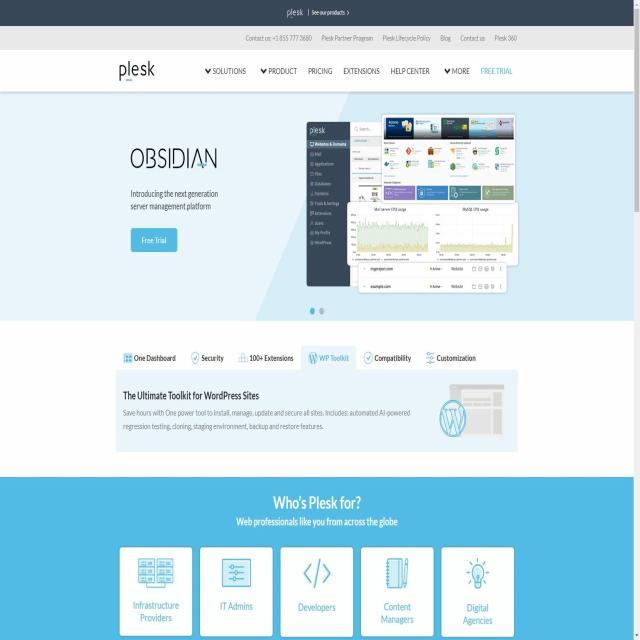button: (130, 227, 177, 253)
select: (204, 65, 247, 77), (260, 65, 298, 76), (443, 65, 471, 77)
